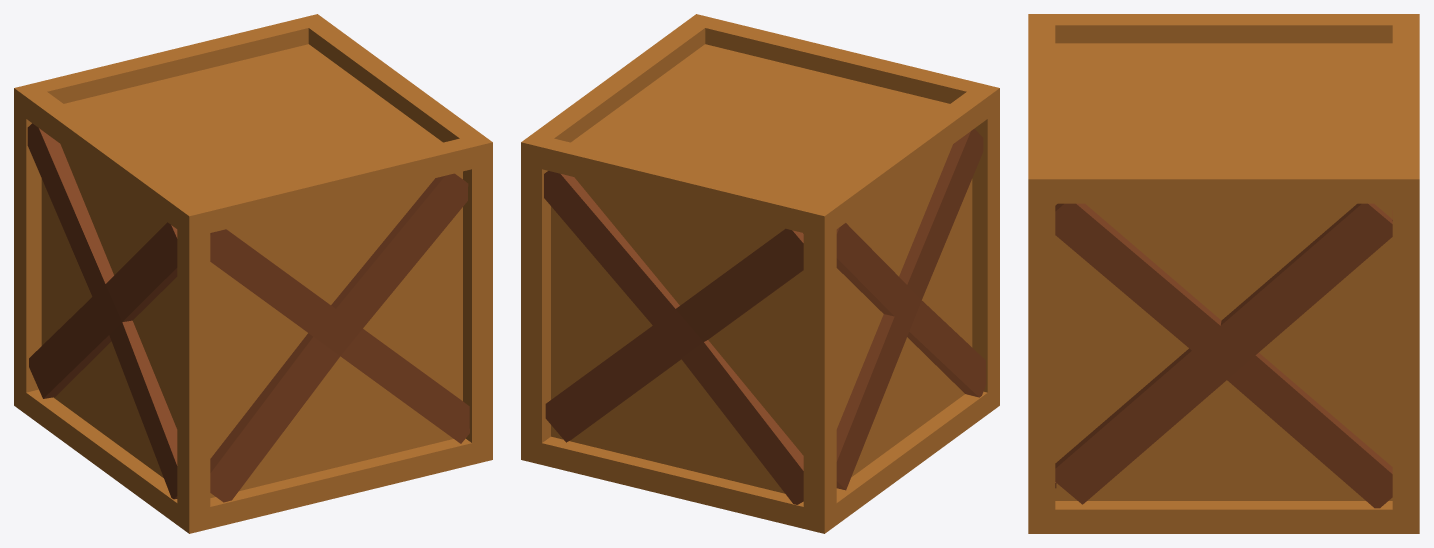
File: Crate.fbx
3 views of the same model, side by side, from view 1: azimuth 30°, elevation 25°; view 2: azimuth 150°, elevation 25°; view 3: azimuth 270°, elevation 25° (orthographic). The views are drawn at different scales.
Parts seen in each view (by area): view 1: Crate; view 2: Crate; view 3: Crate.
Part boxes in pixels (x1,y1,x2,y2): Crate: [14, 14, 492, 533]; Crate: [521, 14, 999, 533]; Crate: [1028, 14, 1419, 533].
Size of the model in its own units: 200 by 200 by 200.
